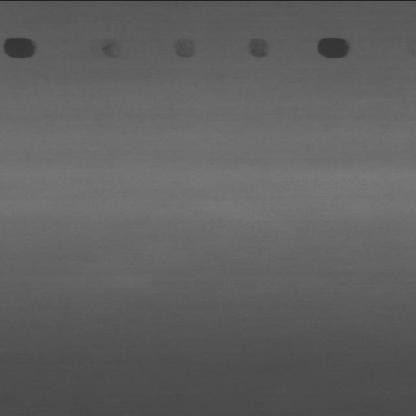oil_spot: (1, 33, 38, 60), (315, 37, 354, 59), (166, 39, 195, 60), (98, 38, 122, 62), (246, 38, 269, 58)
